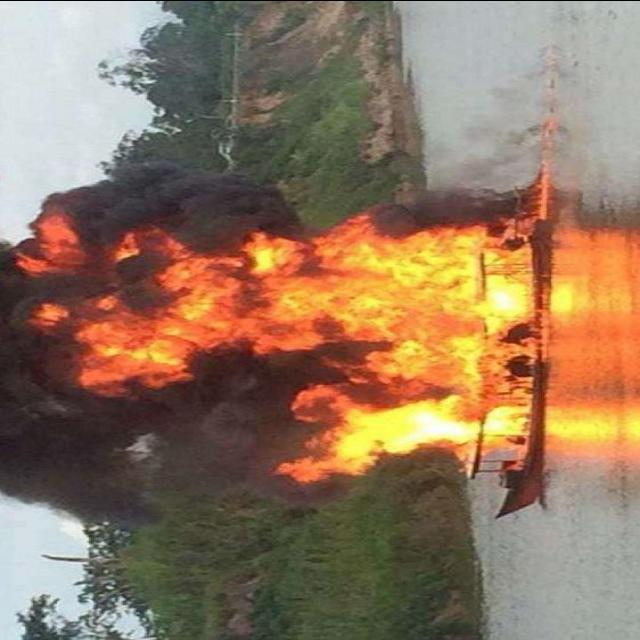Fire: (17, 217, 516, 473), (529, 287, 549, 365), (534, 175, 550, 217)
